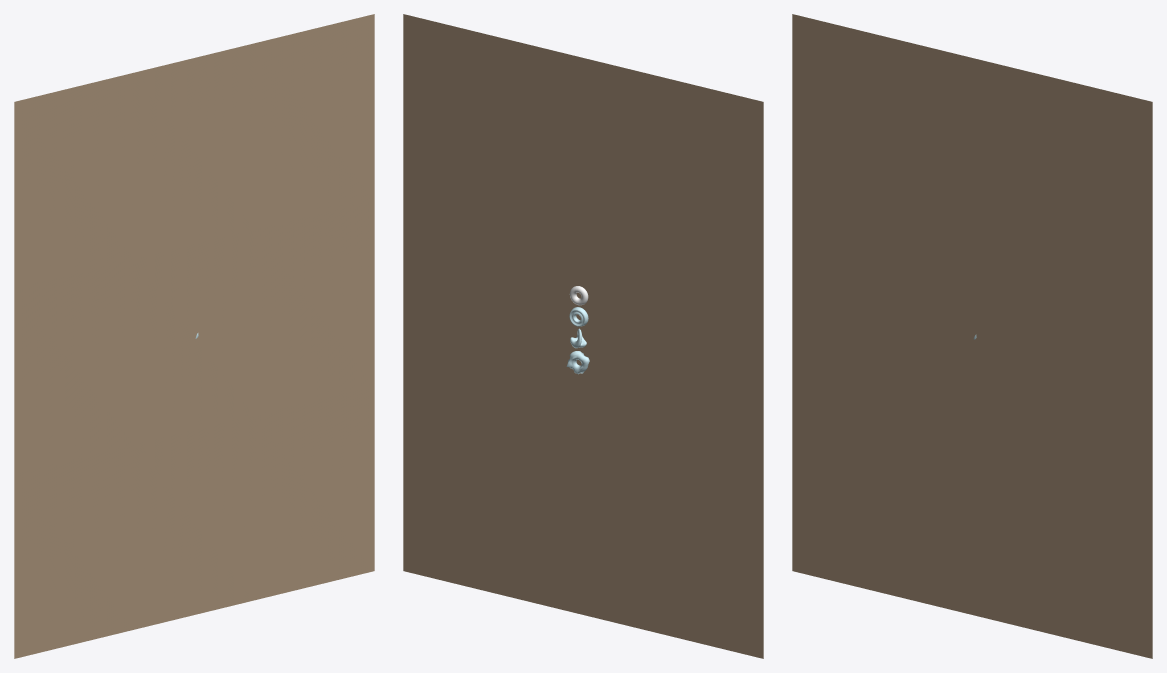
The model's file is simple_019_BlendShapes_00.dae.
3 renders of one model, left to right at view 1: azimuth 30°, elevation 25°; view 2: azimuth 150°, elevation 25°; view 3: azimuth 330°, elevation 25°, orthographic.
Parts seen in each view (by area): view 1: pPlane1; view 2: pPlane1; view 3: pPlane1.
Boxes of the visible parts, x1,y1,x2,y2 form: pPlane1: (14,14,374,658); pPlane1: (403,14,763,658); pPlane1: (792,14,1152,658).
Bounding box in the file's own units: 60.64 × 2.68 × 89.62.
